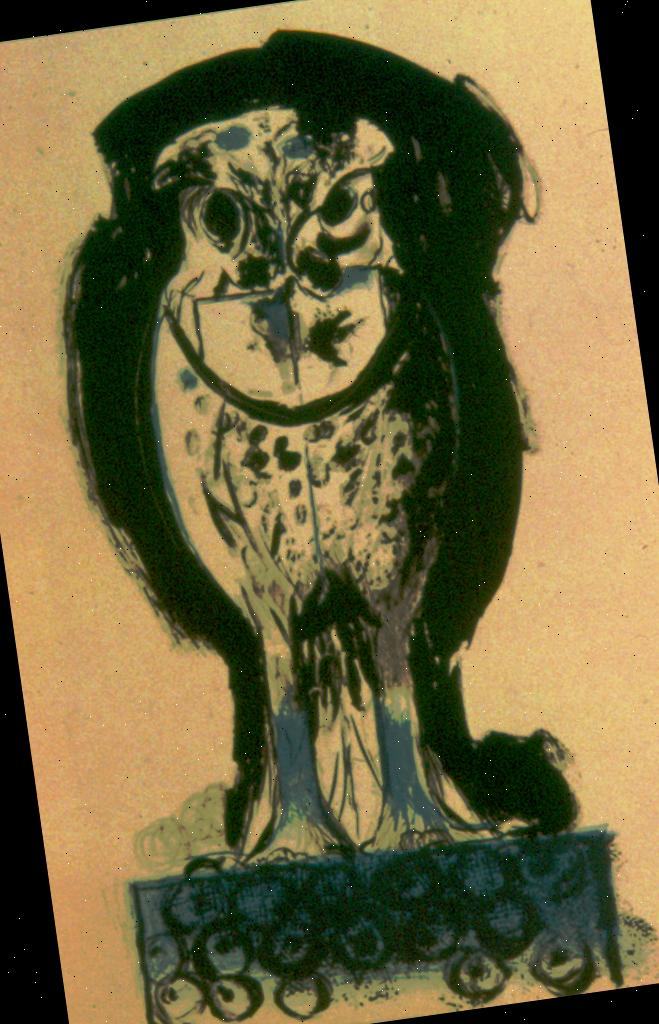Owl: (9, 2, 611, 893)
